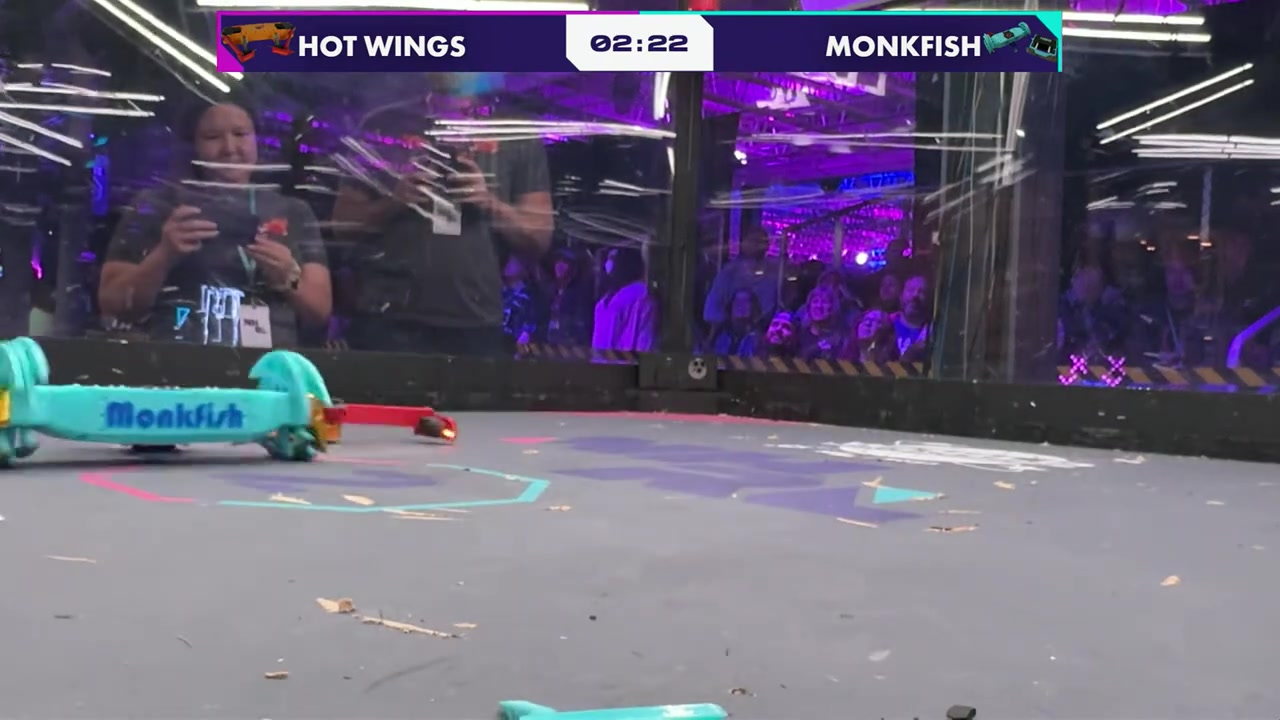combatbot: (0, 351, 330, 469)
